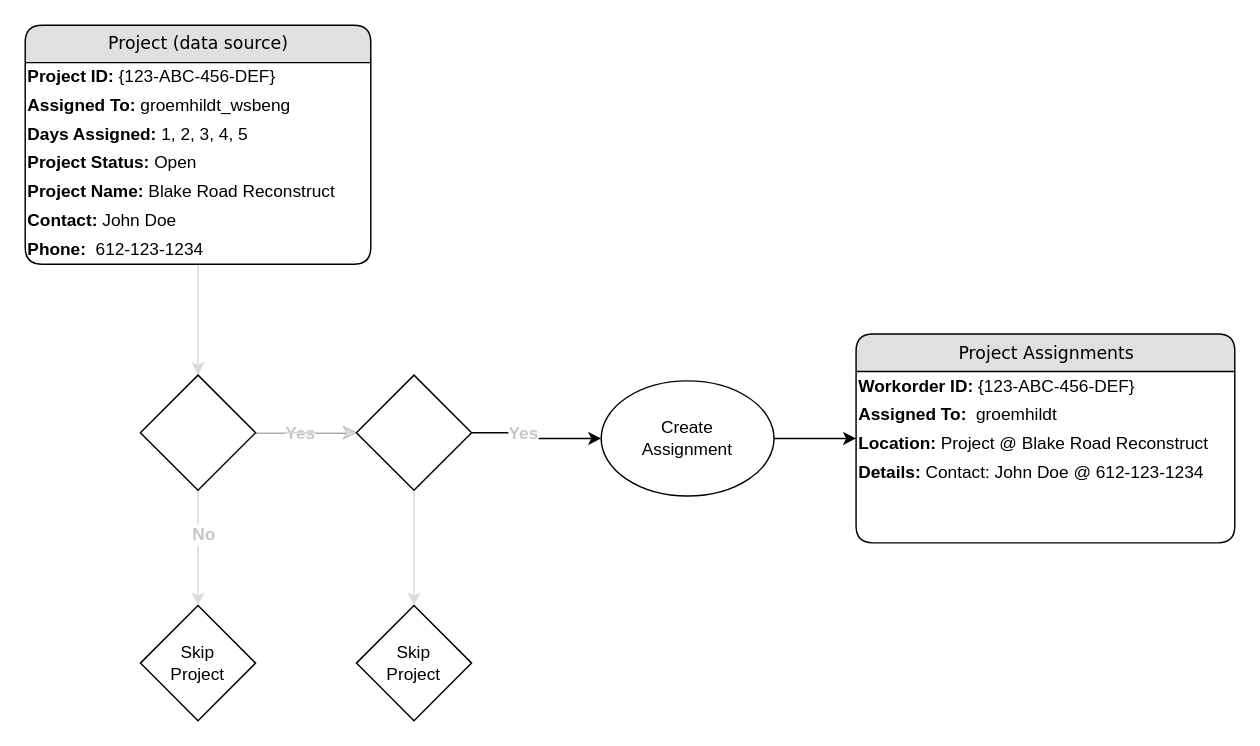
Some shapes in this 1260 by 746 pixel diagram are drawn without their labels. Here are the shapes that lost their labels. From the top down, the centre of each, then its label:
point (197, 432): Is Project Open?
point (413, 432): Is Today Assigned?
